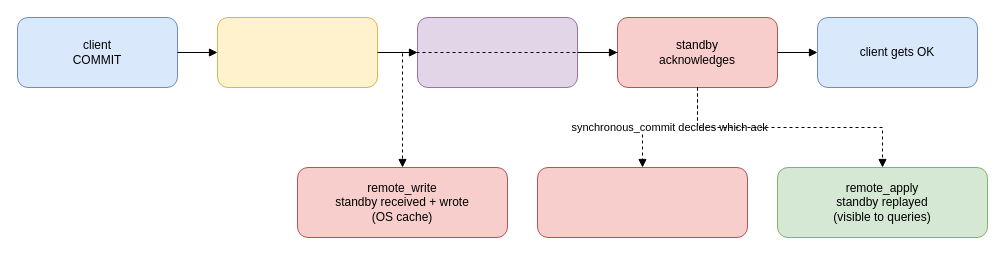
The diagram is 1005 pixels wide and 255 high, and some of its shapes have lost their labels. The shapes that lost their labels are listed below. From the top down, each one's centre as x and y in pixels, then its label:
point (297, 52): primary local WAL flush (always first)
point (497, 52): walsender sends WAL to standby (wait starts)
point (642, 202): on (default) standby flushed (fsync)
